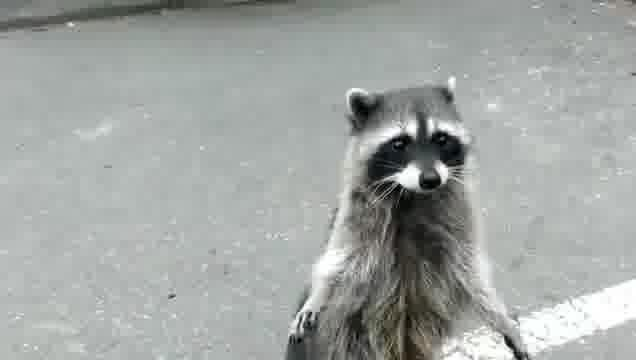raccoon: (286, 76, 533, 360)
